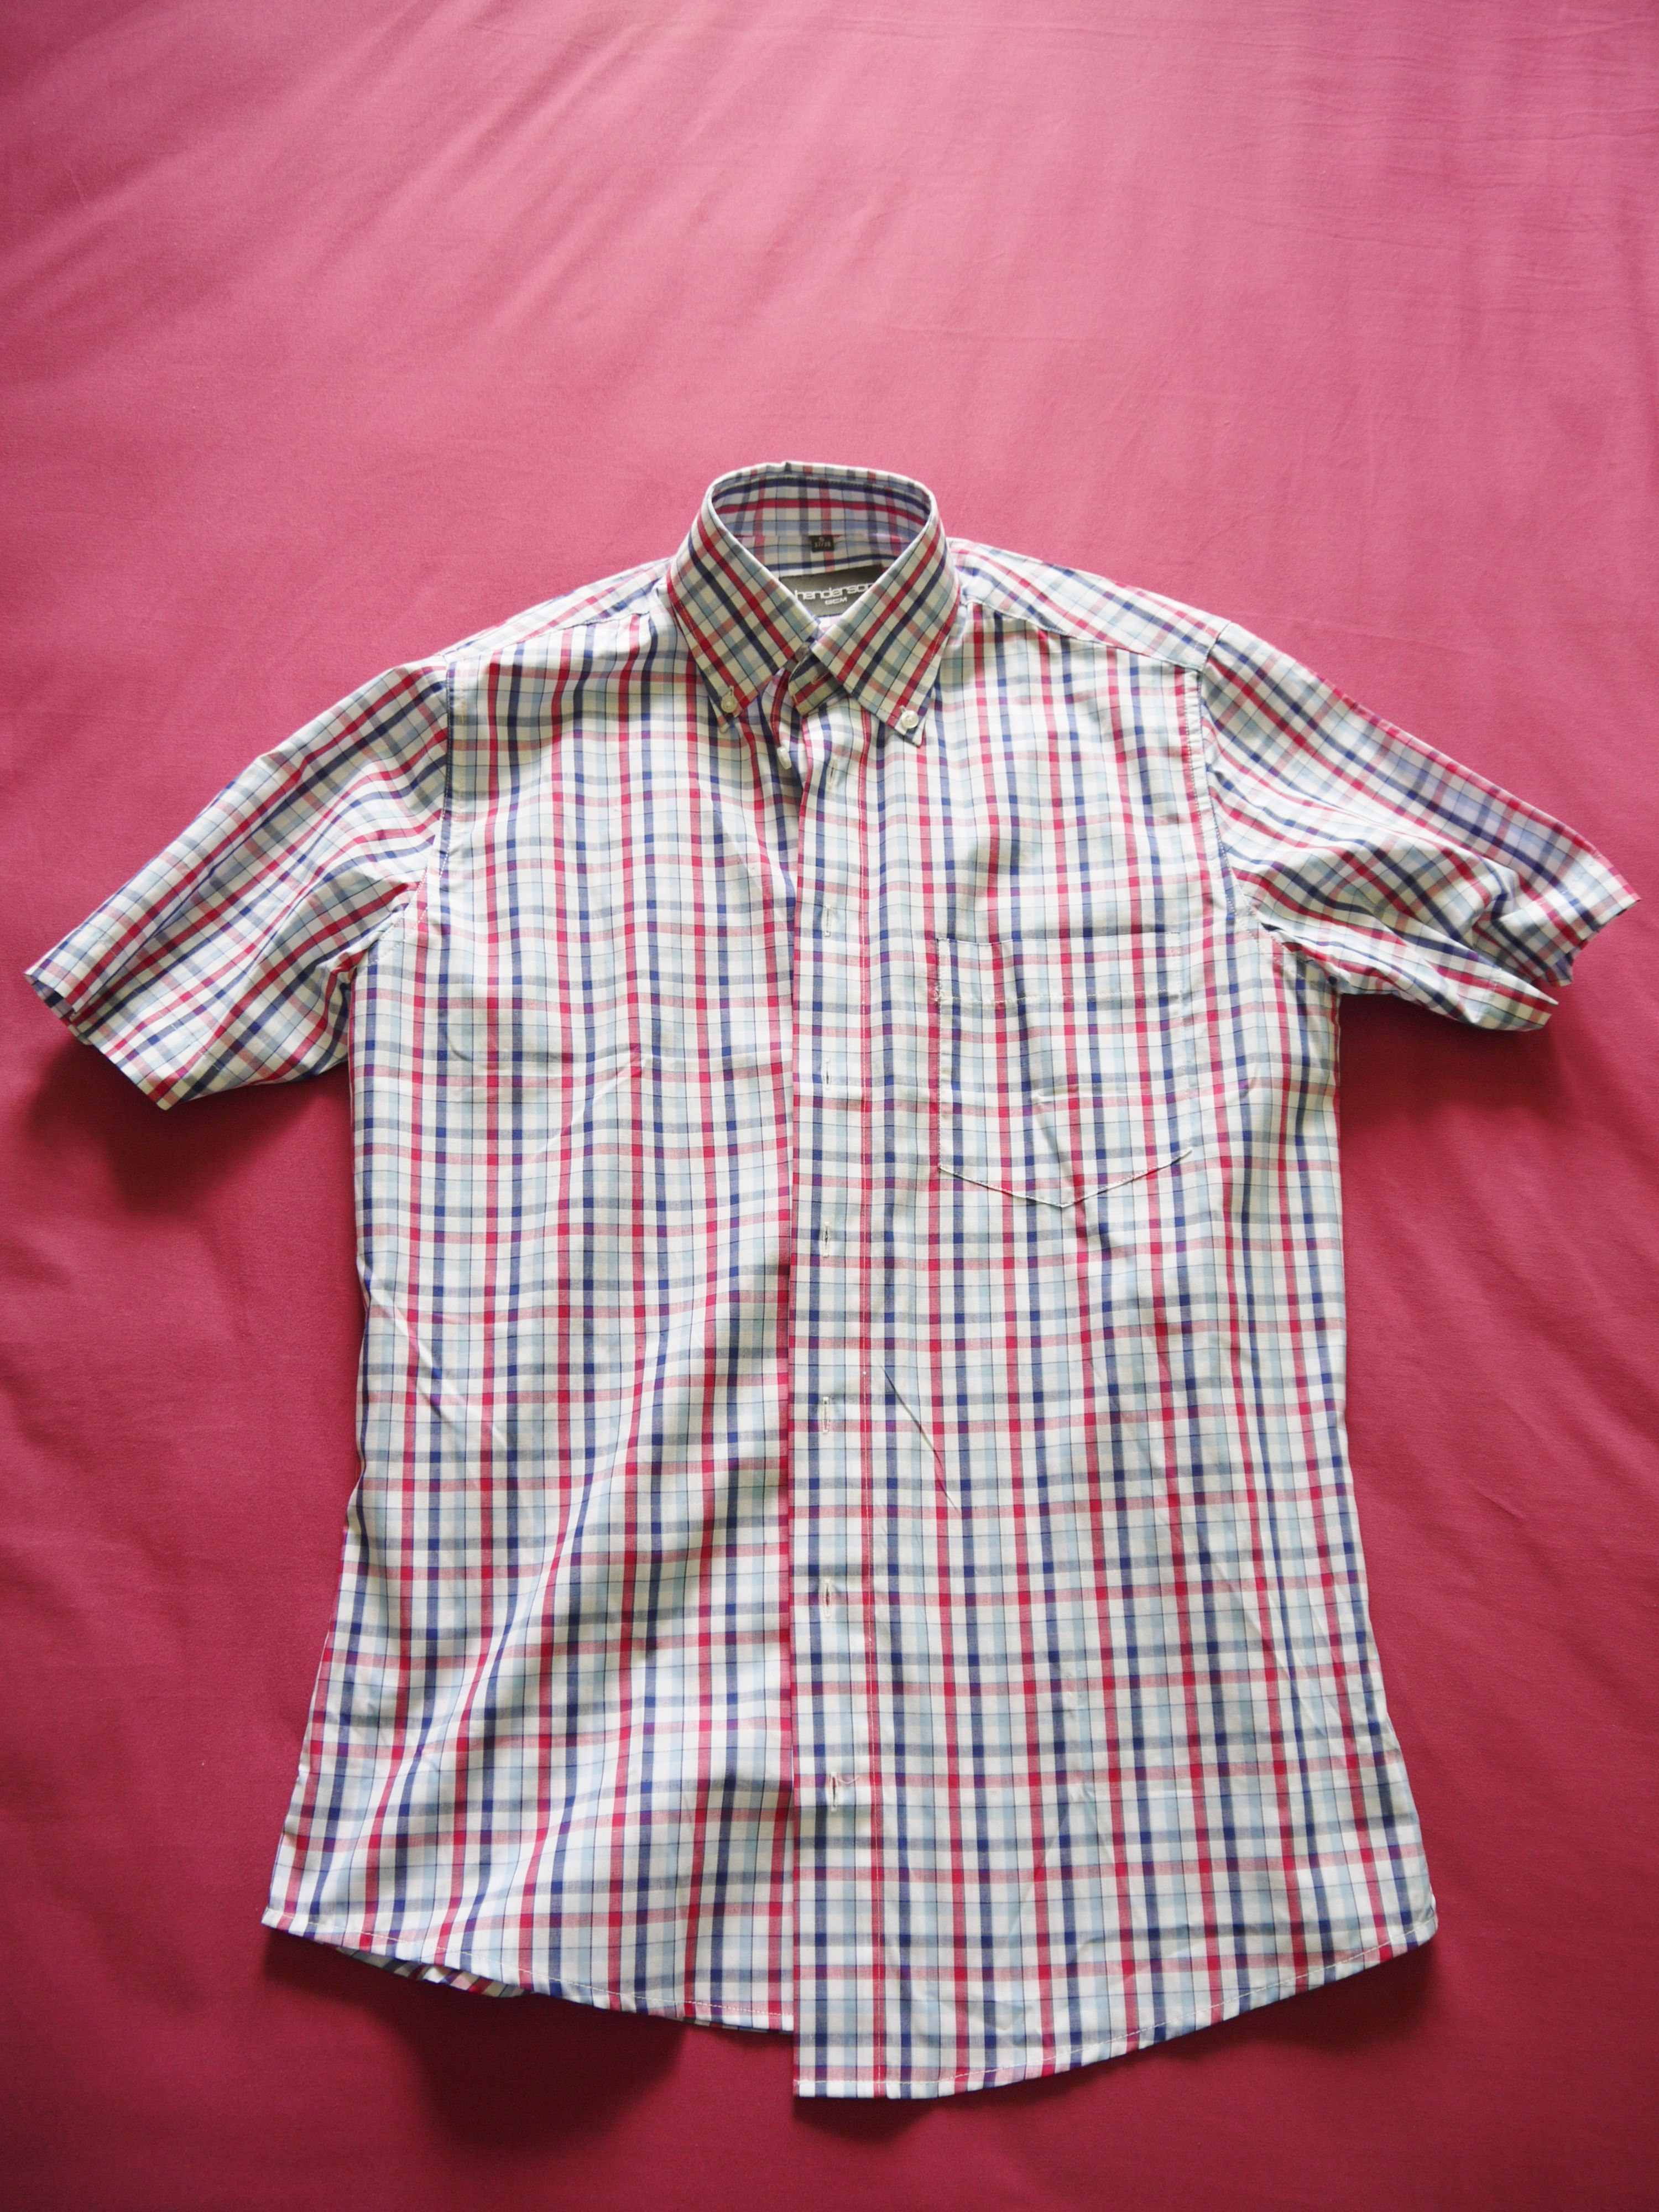clothes: (30, 451, 1633, 2139)
